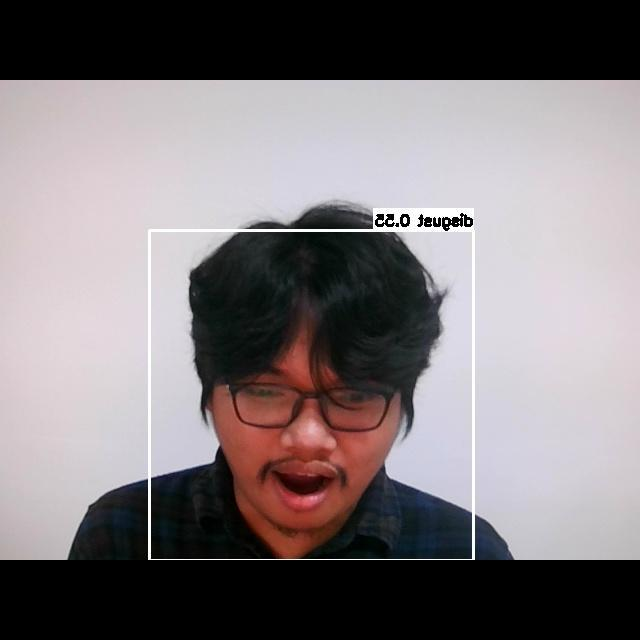Surprised: (206, 336, 408, 531)
